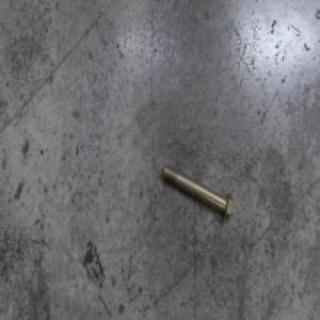Bolttrack_idkeyframe: (160, 160, 233, 222)
